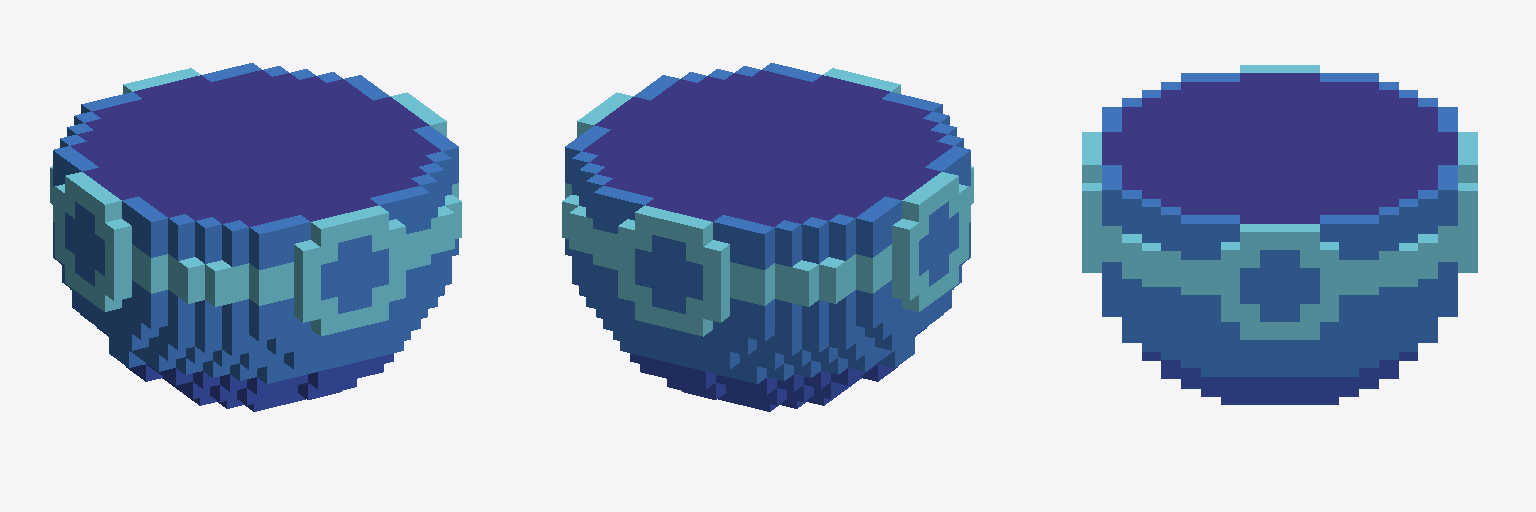
3 renders of one model, left to right at view 1: azimuth 30°, elevation 25°; view 2: azimuth 150°, elevation 25°; view 3: azimuth 270°, elevation 25°, orthographic.
Parts seen in each view (by area): view 1: object 1; view 2: object 1; view 3: object 1.
Part boxes in pixels (x1,y1,x2,y2): object 1: (50,63,461,411); object 1: (562,63,973,411); object 1: (1082,65,1477,404).
Bounding box in the file's own units: 2 × 1.2 × 2.
Materials: 1 (1 with a texture image).